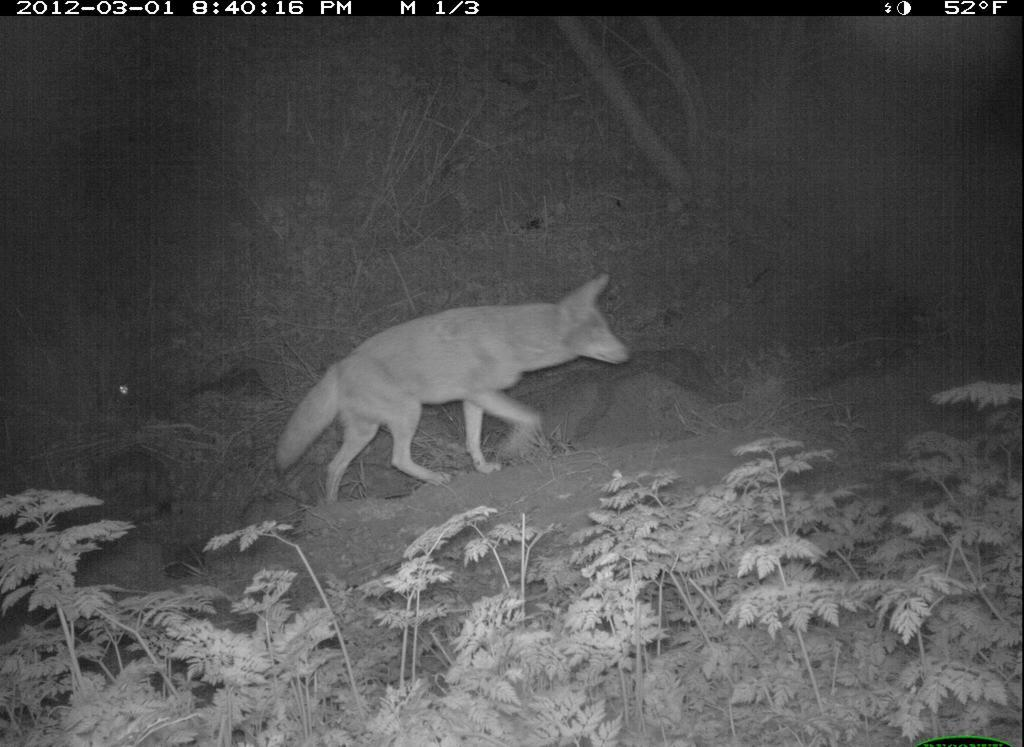coyote: (280, 271, 648, 505)
